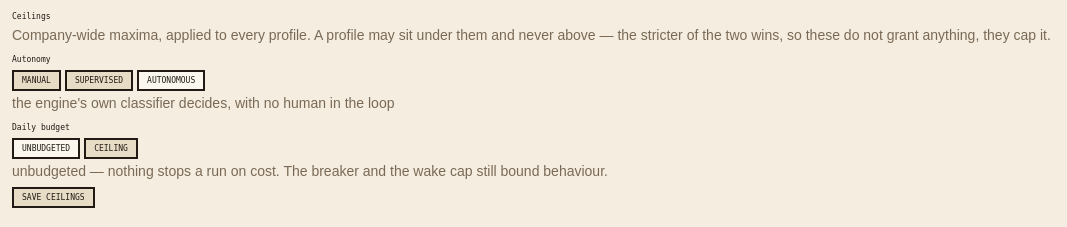
it: the ceilings panel, wired › will not post a half-typed figure
Click the button "CEILING". click: (111, 148)
box: [84,138,138,159]
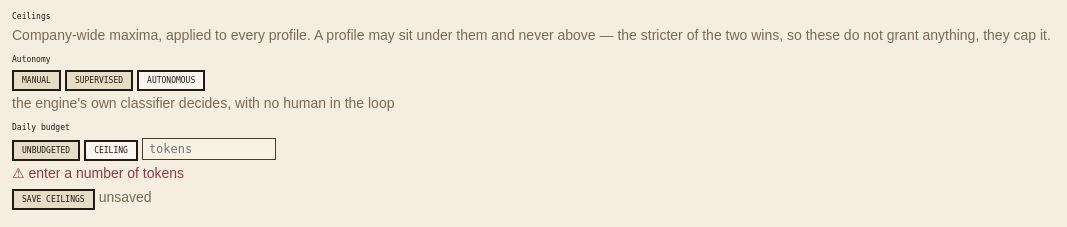
expect the button "SAVE CEILINGS" is disabled: met, box [12,189,95,210]
expect the text "enter a number of tokens" is shown: met, box [28,165,184,181]
